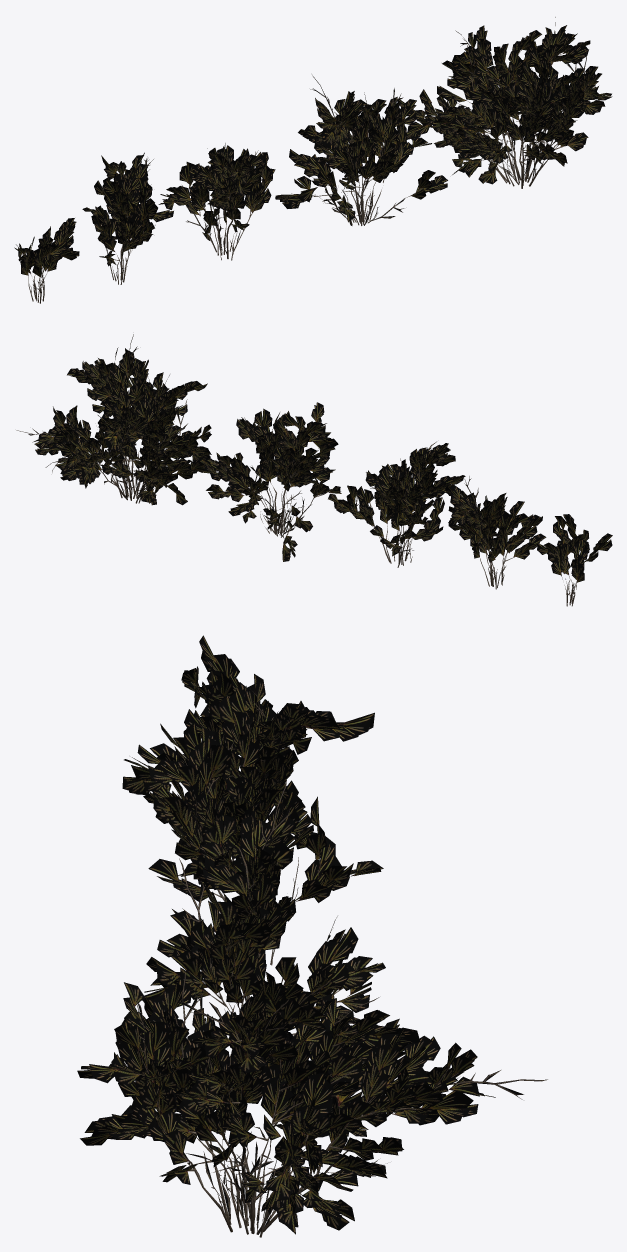
Rendered from prop-rooibos-152af06e.glb.
3 views of the same model, one above another, from view 1: azimuth 30°, elevation 25°; view 2: azimuth 150°, elevation 25°; view 3: azimuth 270°, elevation 25° (orthographic). The views are drawn at different scales.
Parts seen in each view (by area): view 1: wild_rooibos_bush_a, wild_rooibos_bush_b, wild_rooibos_bush_c, wild_rooibos_bush_d, wild_rooibos_bush_e; view 2: wild_rooibos_bush_a, wild_rooibos_bush_b, wild_rooibos_bush_c, wild_rooibos_bush_d, wild_rooibos_bush_e; view 3: wild_rooibos_bush_a, wild_rooibos_bush_b, wild_rooibos_bush_c, wild_rooibos_bush_d, wild_rooibos_bush_e.
Boxes of the visible parts, x1=… form: wild_rooibos_bush_a: x1=397, y1=17, x2=612, y2=188; wild_rooibos_bush_b: x1=275, y1=75, x2=447, y2=225; wild_rooibos_bush_c: x1=158, y1=143, x2=275, y2=260; wild_rooibos_bush_d: x1=82, y1=152, x2=173, y2=284; wild_rooibos_bush_e: x1=14, y1=218, x2=79, y2=303; wild_rooibos_bush_a: x1=16, y1=334, x2=218, y2=505; wild_rooibos_bush_b: x1=201, y1=402, x2=341, y2=561; wild_rooibos_bush_c: x1=328, y1=441, x2=465, y2=567; wild_rooibos_bush_d: x1=445, y1=476, x2=546, y2=589; wild_rooibos_bush_e: x1=537, y1=514, x2=612, y2=606; wild_rooibos_bush_a: x1=77, y1=964, x2=547, y2=1237; wild_rooibos_bush_b: x1=142, y1=780, x2=385, y2=1042; wild_rooibos_bush_c: x1=122, y1=722, x2=383, y2=965; wild_rooibos_bush_d: x1=160, y1=674, x2=374, y2=860; wild_rooibos_bush_e: x1=181, y1=635, x2=272, y2=774.
Bounding box in the file's own units: 2.27 × 0.541 × 0.8432.
2 materials, 2 textured.
